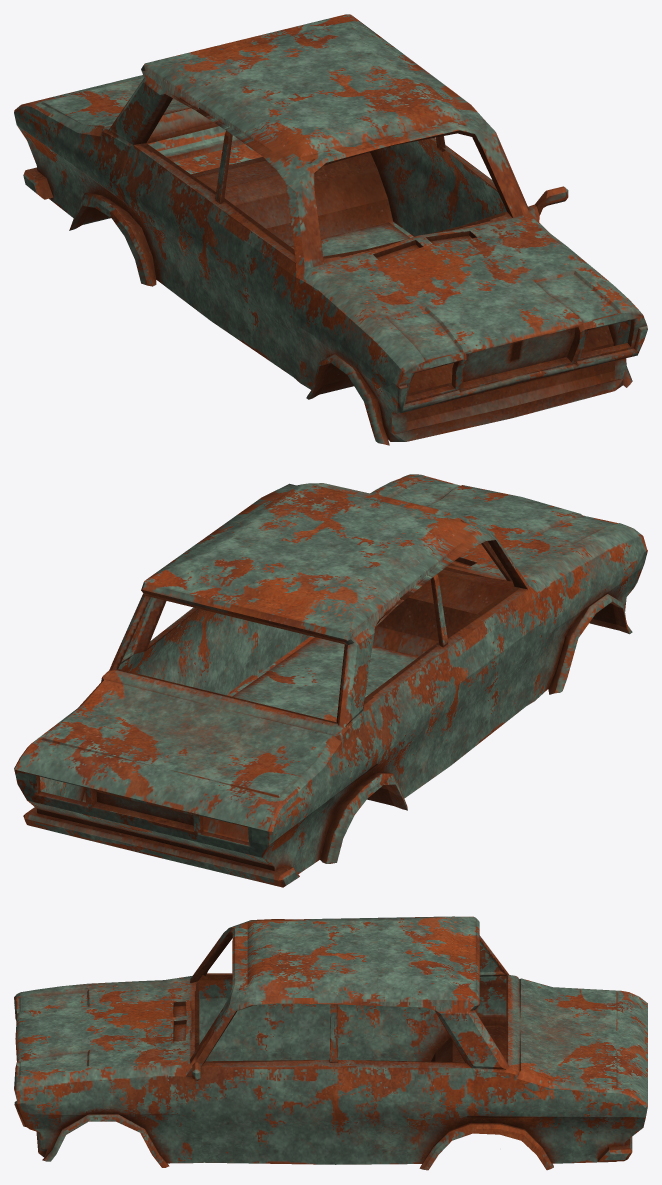
Rendered from DamageCar03.fbx.
3 views of the same model, one above another, from view 1: azimuth 30°, elevation 25°; view 2: azimuth 150°, elevation 25°; view 3: azimuth 270°, elevation 25° (orthographic). The views are drawn at different scales.
Parts seen in each view (by area): view 1: pCylinder10; view 2: pCylinder10; view 3: pCylinder10.
Boxes of the visible parts, box(x1,y1,x2,y2) form: pCylinder10: box(14, 14, 647, 445); pCylinder10: box(14, 474, 647, 887); pCylinder10: box(14, 916, 647, 1170).
Bounding box in the file's own units: 1.28 × 0.8692 × 2.93.
